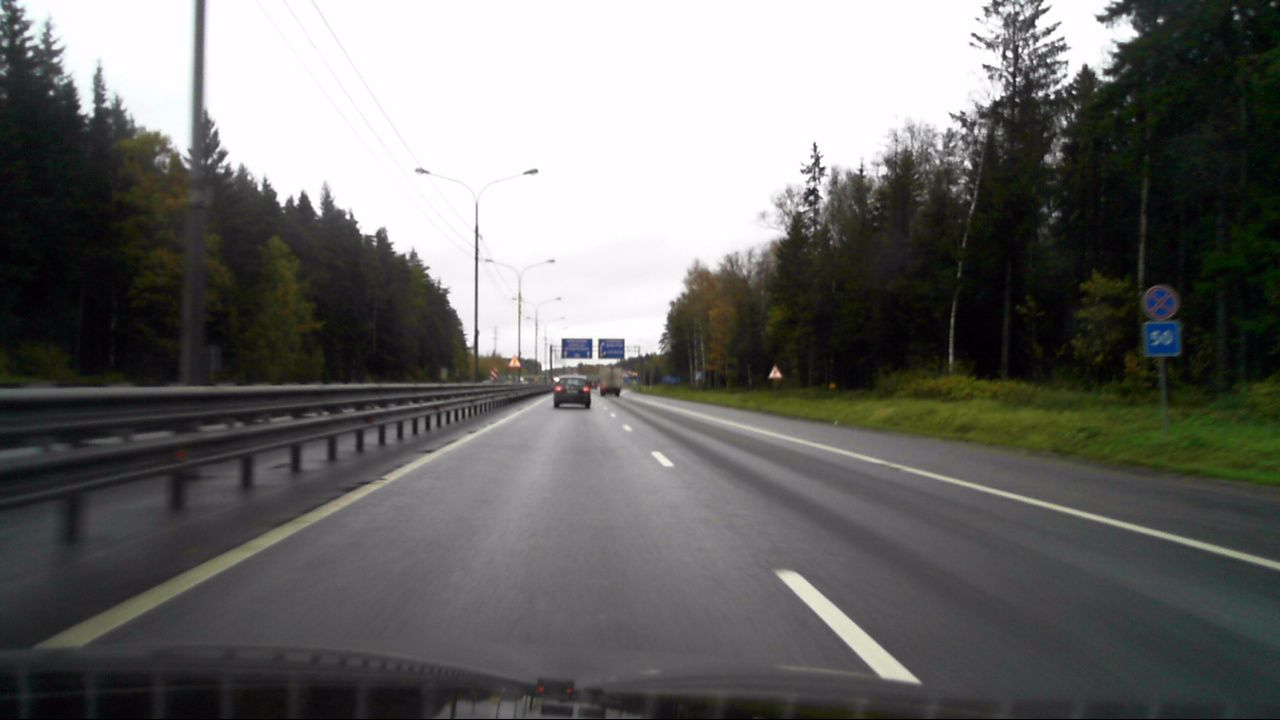No Parking: (1142, 284, 1178, 319)
